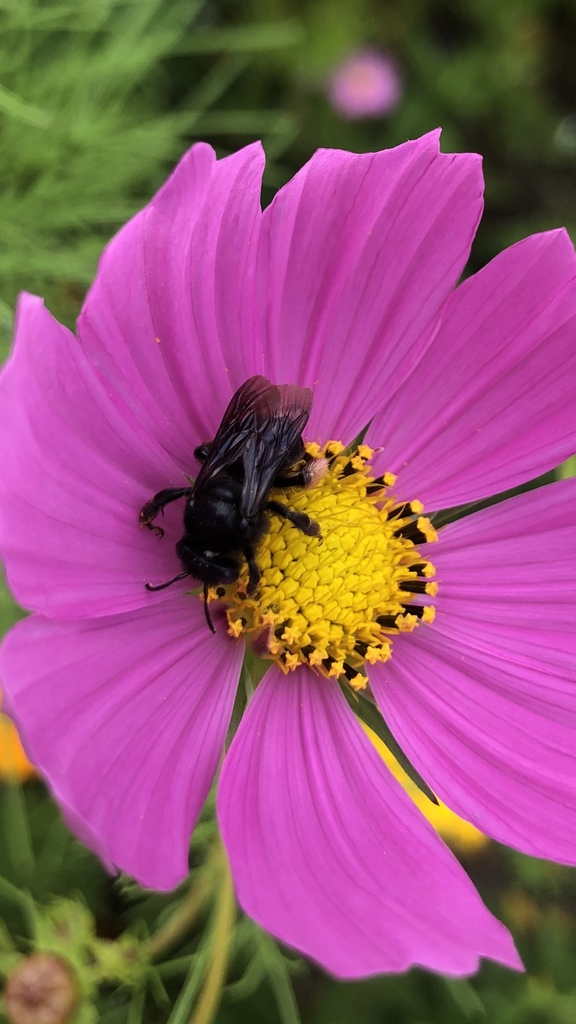not_bumblebee: (137, 373, 324, 636)
